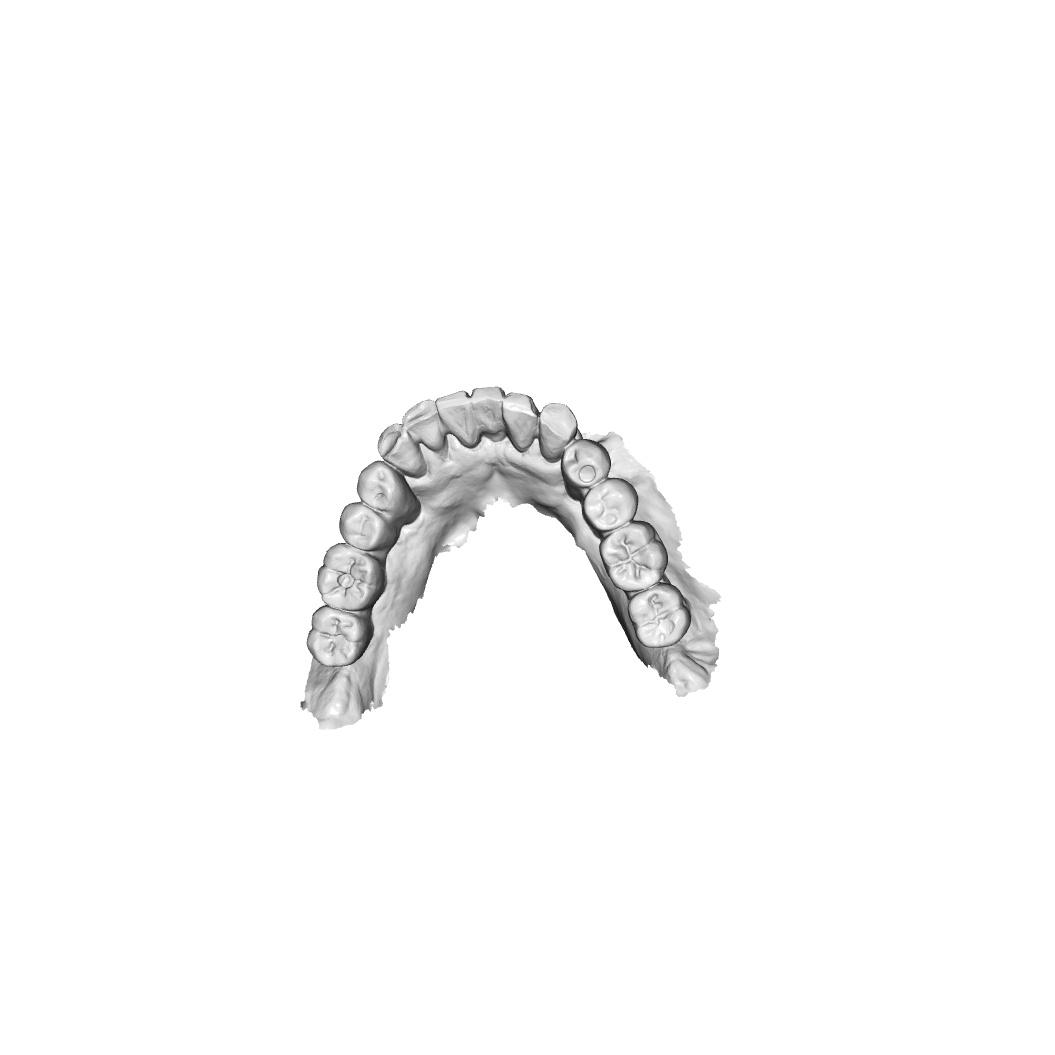canine: (377, 423, 428, 479), (537, 402, 579, 463)
incisor: (435, 389, 482, 449), (402, 398, 446, 453), (501, 392, 539, 453), (471, 386, 506, 442)
molar: (599, 519, 669, 594), (315, 542, 387, 612), (627, 582, 692, 649), (306, 605, 374, 668)
premolar: (356, 459, 421, 525), (582, 477, 639, 537), (560, 439, 612, 502), (339, 501, 397, 552)
